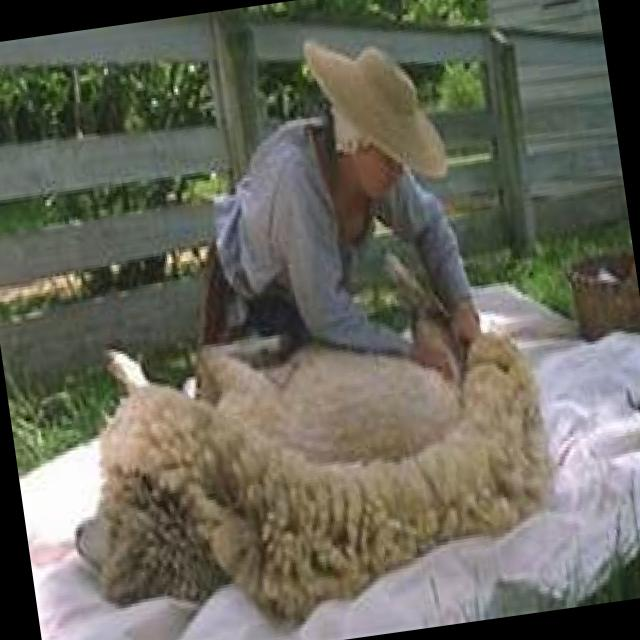animal: (49, 290, 570, 640)
